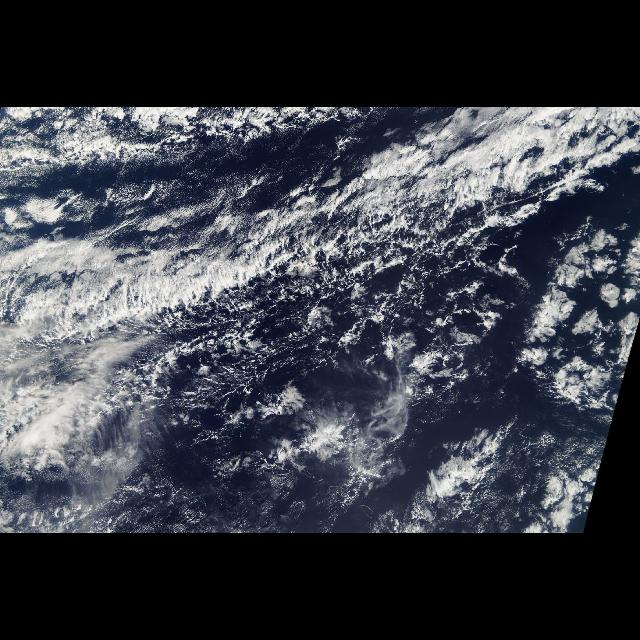Fish: (129, 180, 469, 312)
Gravel: (192, 245, 528, 530)
Sugar: (2, 109, 352, 244)
